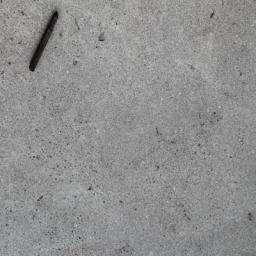FOD: (28, 10, 63, 75)
